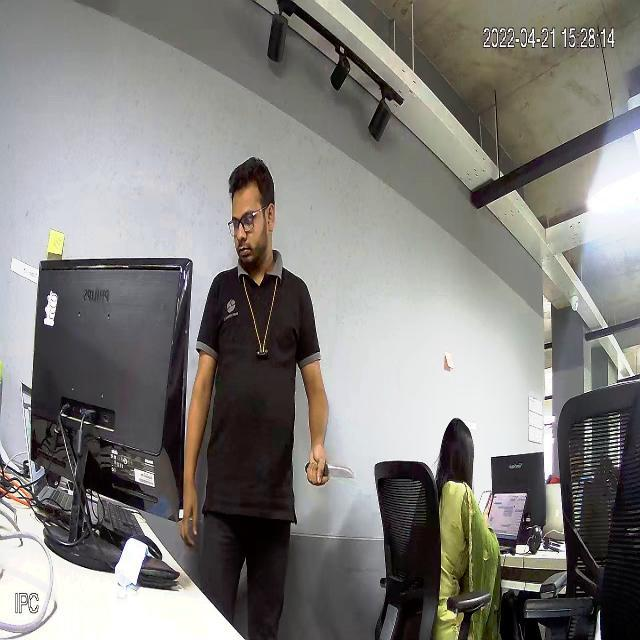Knife: (303, 454, 356, 485)
